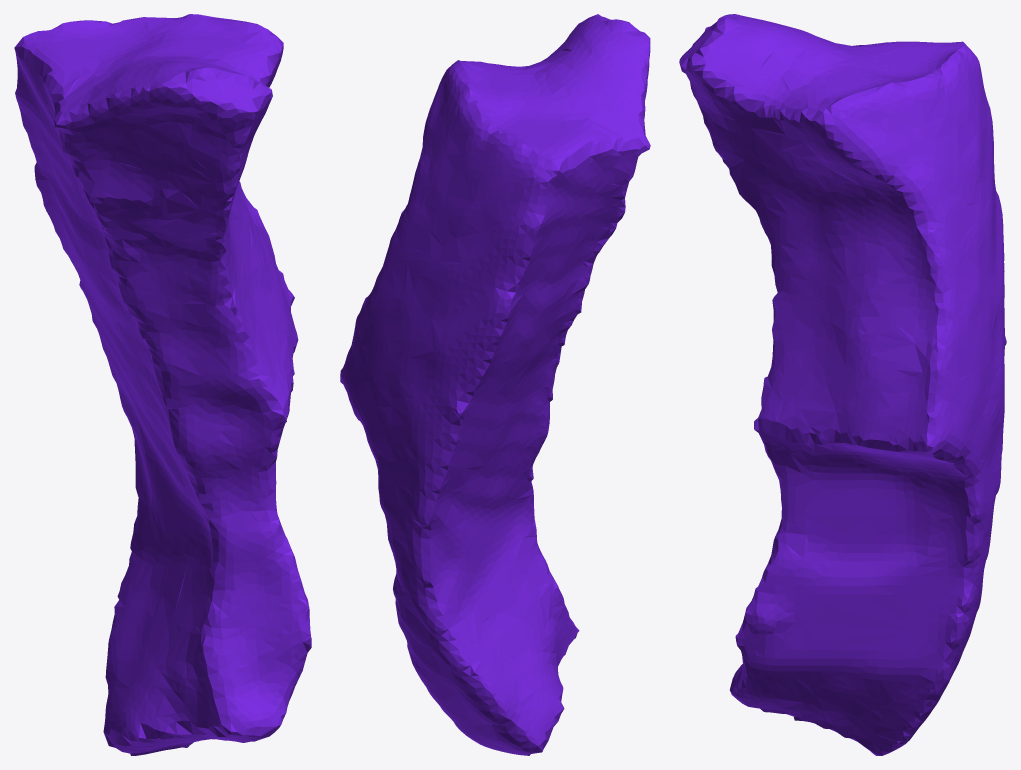
File: Model_69_RH__Area_36_of_cortex_(A36).obj
3 views of the same model, side by side, from view 1: azimuth 30°, elevation 25°; view 2: azimuth 150°, elevation 25°; view 3: azimuth 270°, elevation 25° (orthographic). The views are drawn at different scales.
Size of the model in its own units: 3.08 by 7.64 by 3.21.
